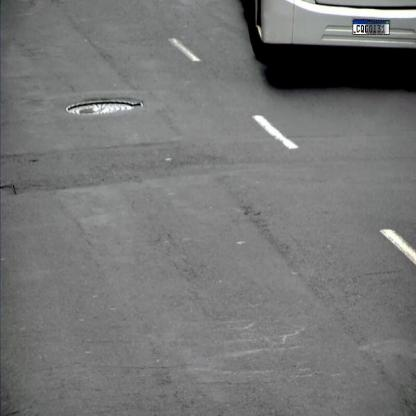PlacaM: (352, 20, 390, 35)
